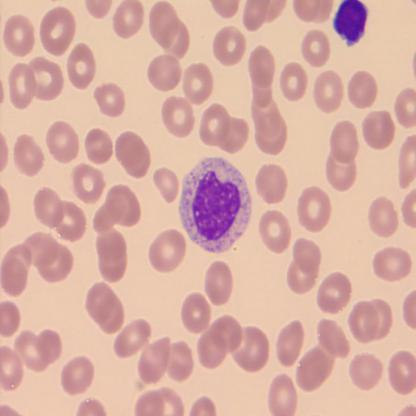Metamyelocyte: (177, 154, 253, 255)
